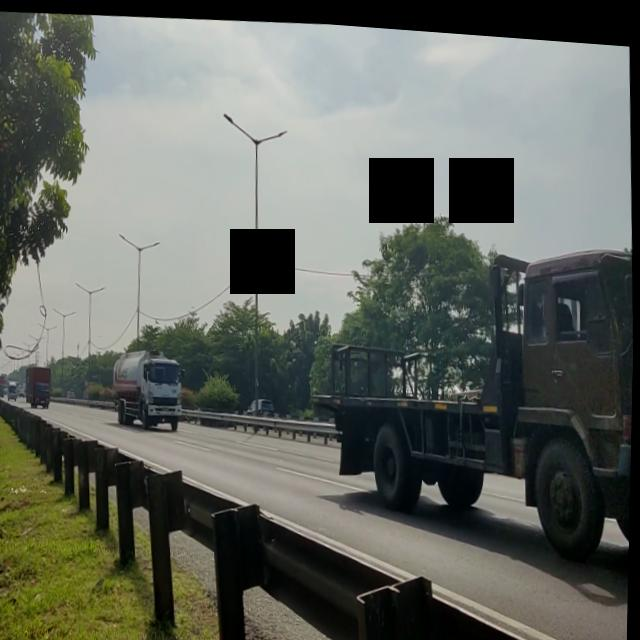Golongan II: (308, 212, 637, 574)
